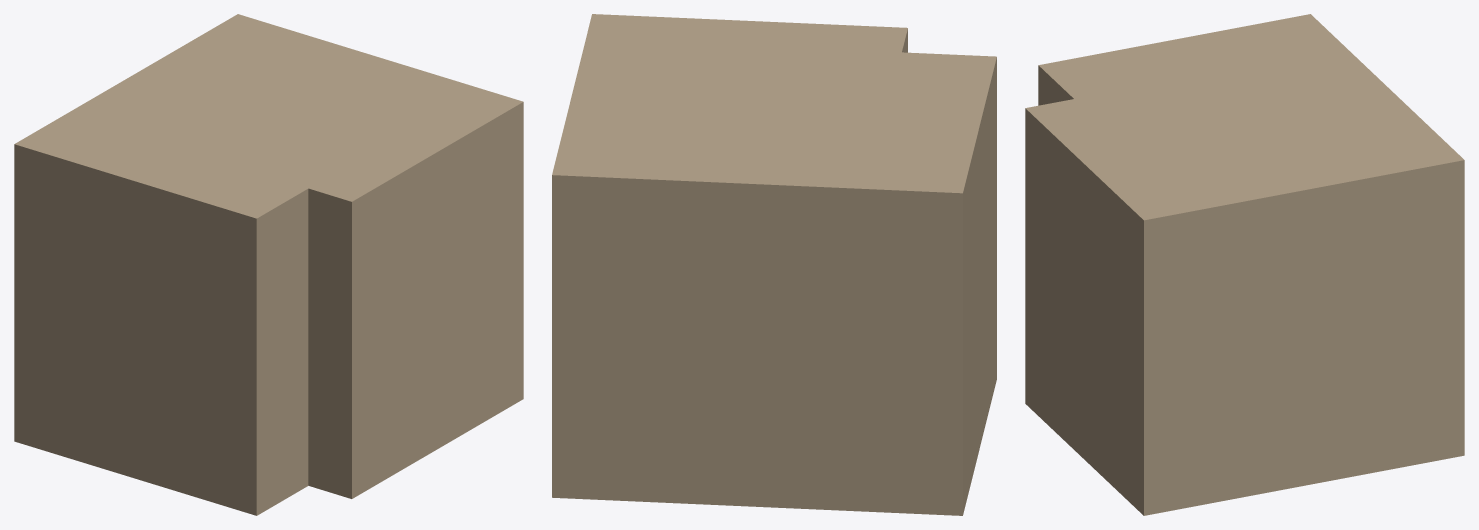
File: bld_107625514.dae
The picture shows the model from 3 angles, left to right: view 1: azimuth 30°, elevation 25°; view 2: azimuth 150°, elevation 25°; view 3: azimuth 270°, elevation 25°; orthographic projection. The views are drawn at different scales.
Parts seen in each view (by area): view 1: bld_107625514; view 2: bld_107625514; view 3: bld_107625514.
Boxes of the visible parts, x1,y1,x2,y2 form: bld_107625514: [14, 14, 523, 515]; bld_107625514: [552, 14, 996, 515]; bld_107625514: [1025, 14, 1464, 515].
Bounding box in the file's own units: 11.98 × 10.78 × 8.
